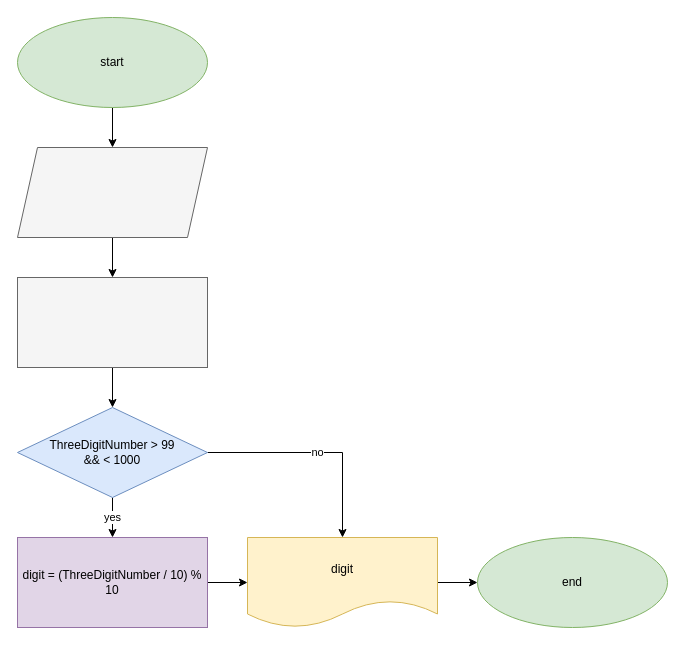
Some shapes in this 685 by 645 pixel diagram are drawn without their labels. Each missing label, with the centre of its shape:
digit = -1: [112,322]
ThreeDigitNumber: [112,192]
